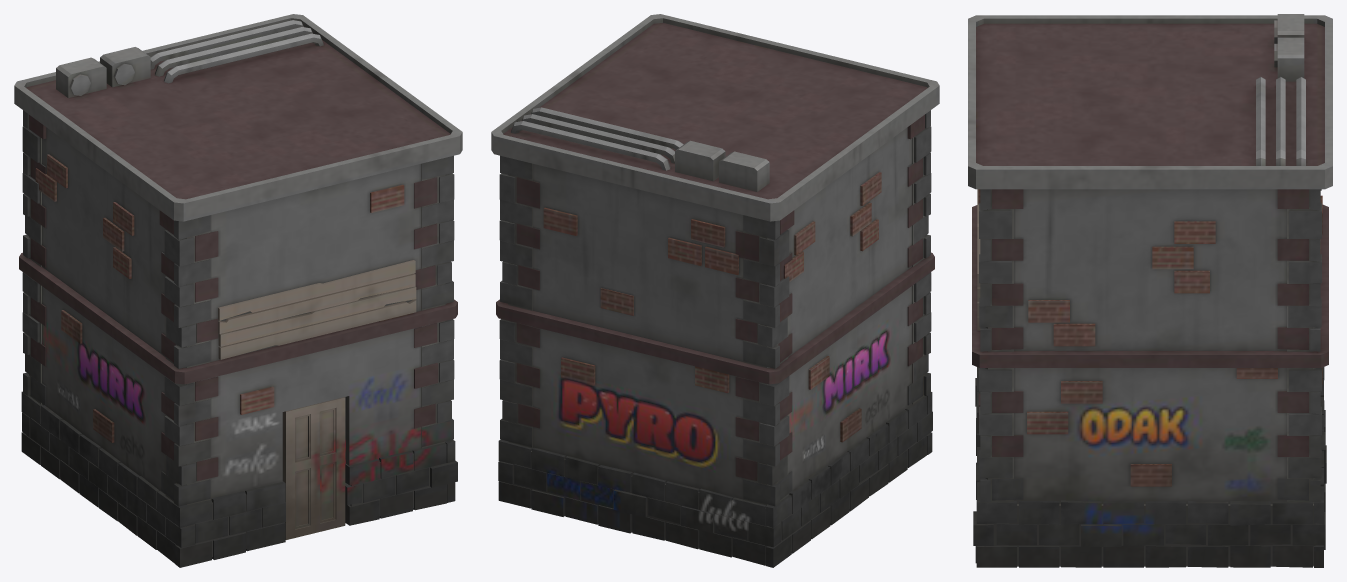
The model's file is 2Story_Sign.glb.
The picture shows the model from 3 angles, left to right: view 1: azimuth 30°, elevation 25°; view 2: azimuth 150°, elevation 25°; view 3: azimuth 270°, elevation 25°; orthographic projection. The views are drawn at different scales.
Visible parts, largest first — view 1: 2Story_Sign_low; view 2: 2Story_Sign_low; view 3: 2Story_Sign_low.
Part boxes in pixels (x1,y1,x2,y2): 2Story_Sign_low: (14,14,462,567); 2Story_Sign_low: (491,14,939,567); 2Story_Sign_low: (968,14,1332,567).
Size of the model in its own units: 2.15 by 2.76 by 2.15.
Materials: 1 (1 with a texture image).
